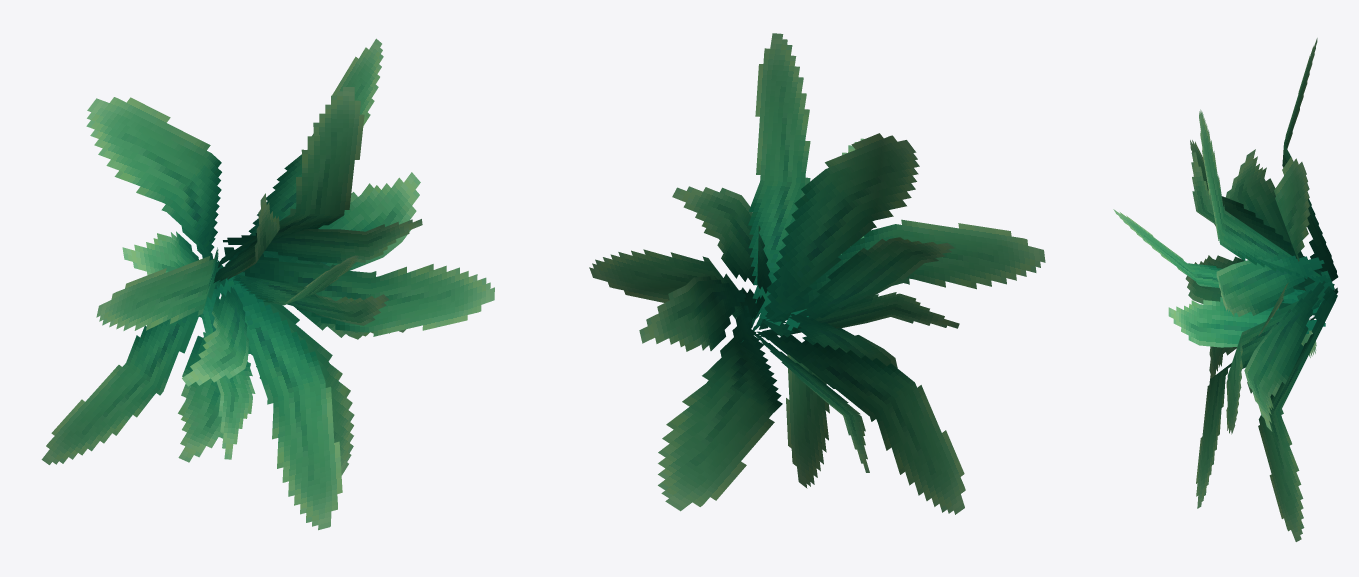
File: shrub 2.glb
The picture shows the model from 3 angles, left to right: view 1: azimuth 30°, elevation 25°; view 2: azimuth 150°, elevation 25°; view 3: azimuth 270°, elevation 25°; orthographic projection. The views are drawn at different scales.
Parts seen in each view (by area): view 1: rsrc.world.prop.natural.plants.shrub_2.model-Submesh[0]; view 2: rsrc.world.prop.natural.plants.shrub_2.model-Submesh[0]; view 3: rsrc.world.prop.natural.plants.shrub_2.model-Submesh[0].
Part boxes in pixels (<box>): rsrc.world.prop.natural.plants.shrub_2.model-Submesh[0]: <box>41,38,494,530</box>; rsrc.world.prop.natural.plants.shrub_2.model-Submesh[0]: <box>589,33,1045,514</box>; rsrc.world.prop.natural.plants.shrub_2.model-Submesh[0]: <box>1113,38,1338,541</box>.
Bounding box in the file's own units: 1.28 × 1.29 × 0.6202.
1 material, 1 textured.
